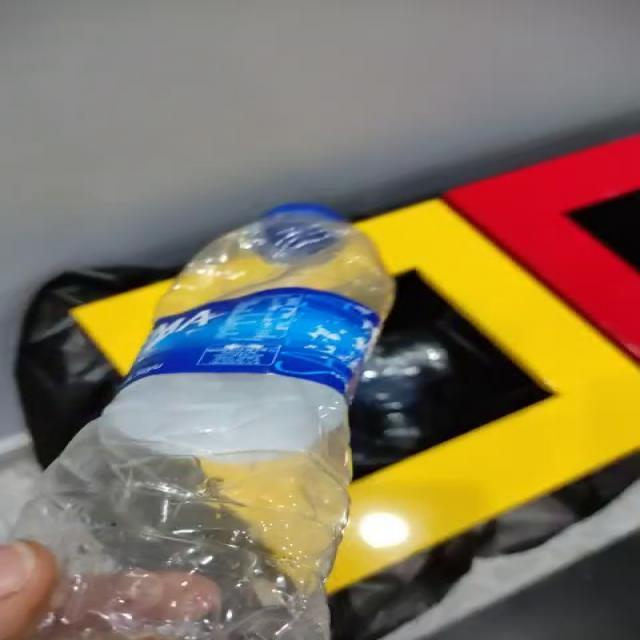Plastic: (15, 205, 395, 640)
